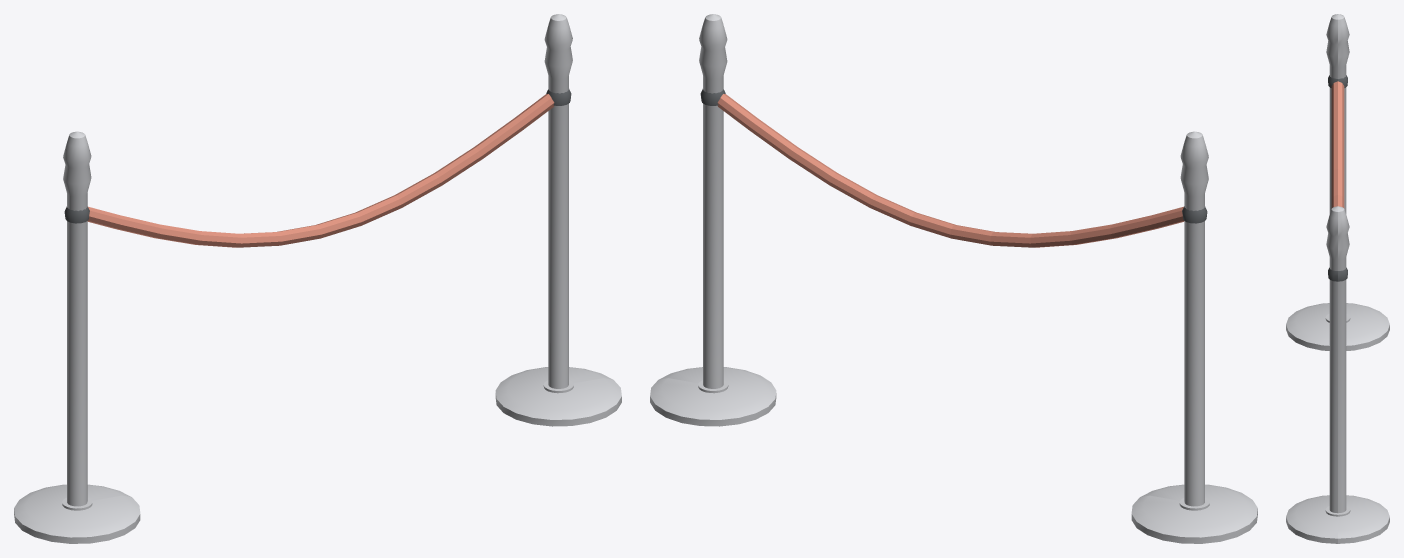
Rendered from SM_Retail_25384_StanchionRopeSet.fbx.
3 renders of one model, left to right at view 1: azimuth 30°, elevation 25°; view 2: azimuth 150°, elevation 25°; view 3: azimuth 270°, elevation 25°, orthographic. The views are drawn at different scales.
Parts seen in each view (by area): view 1: SM_Retail_25384_StanchionRopeSet; view 2: SM_Retail_25384_StanchionRopeSet; view 3: SM_Retail_25384_StanchionRopeSet.
Boxes of the visible parts, bbox=[...] form: SM_Retail_25384_StanchionRopeSet: bbox=[14, 14, 621, 543]; SM_Retail_25384_StanchionRopeSet: bbox=[650, 14, 1257, 543]; SM_Retail_25384_StanchionRopeSet: bbox=[1286, 14, 1389, 543].
Size of the model in its own units: 172 by 32 by 107.
